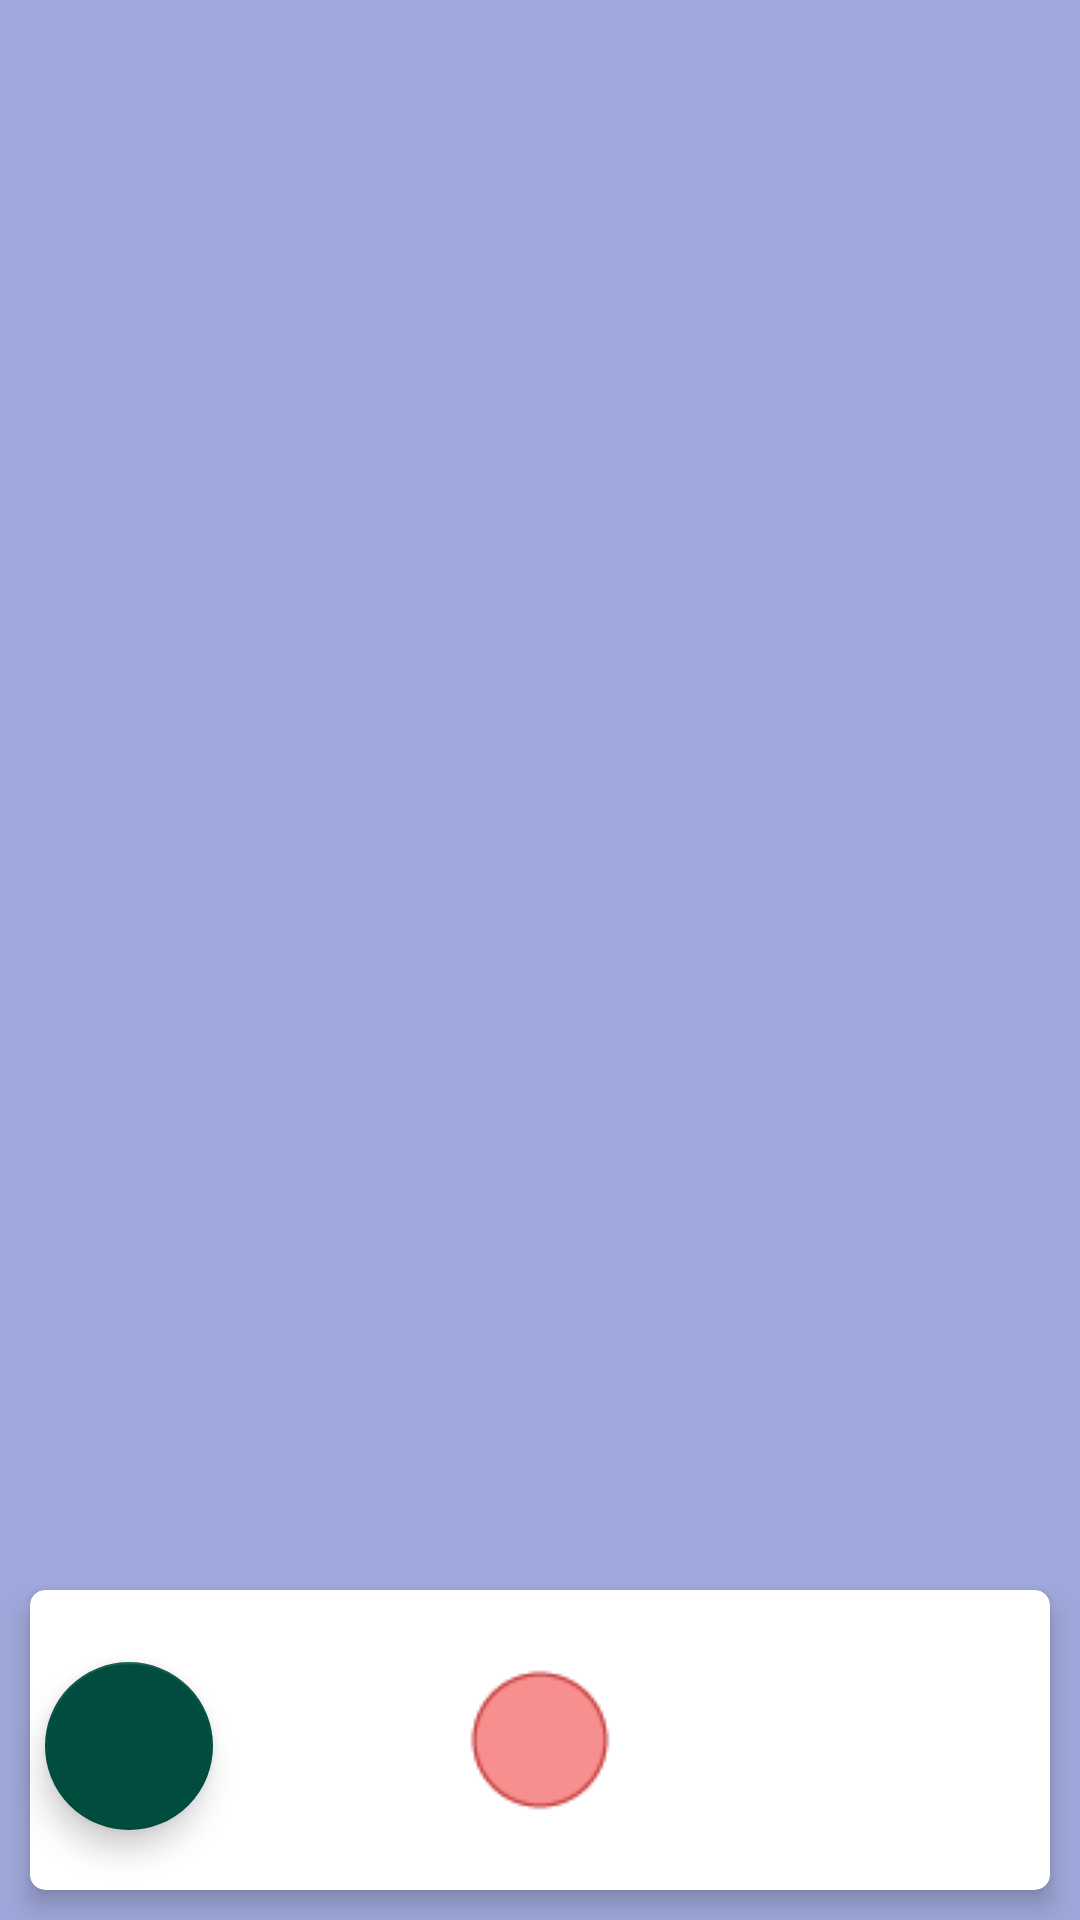

Locate icon controls on the screen. Image size 1080px x 1920px, boxes as (x1, y1, x2, y2).
record: (470, 1670, 610, 1810)
